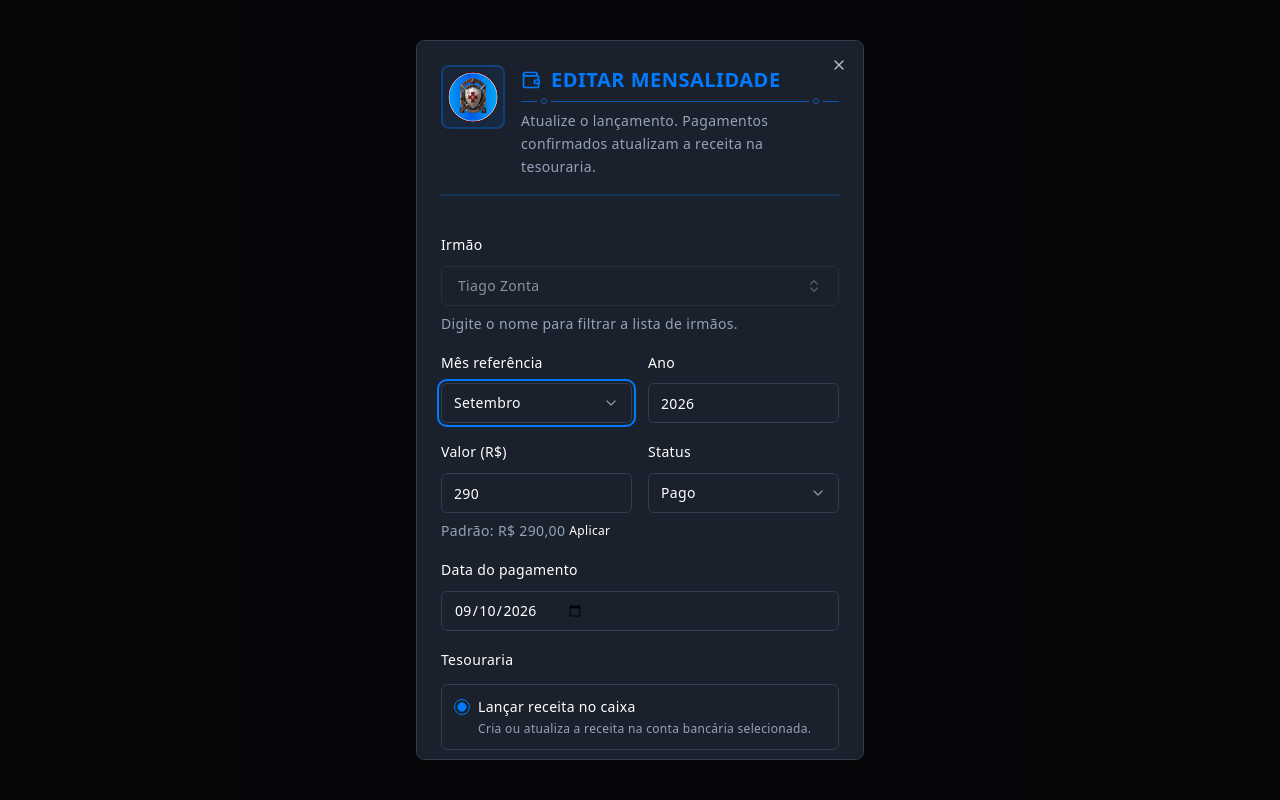
Test: ContributionDialog (edição) › não salva ao escolher voltar e corrigir
Replace the text in the number field labelled "Valor (R$)" with "21" at (536, 493), box x1=441 y1=473 x2=632 y2=513
(page scrolled)
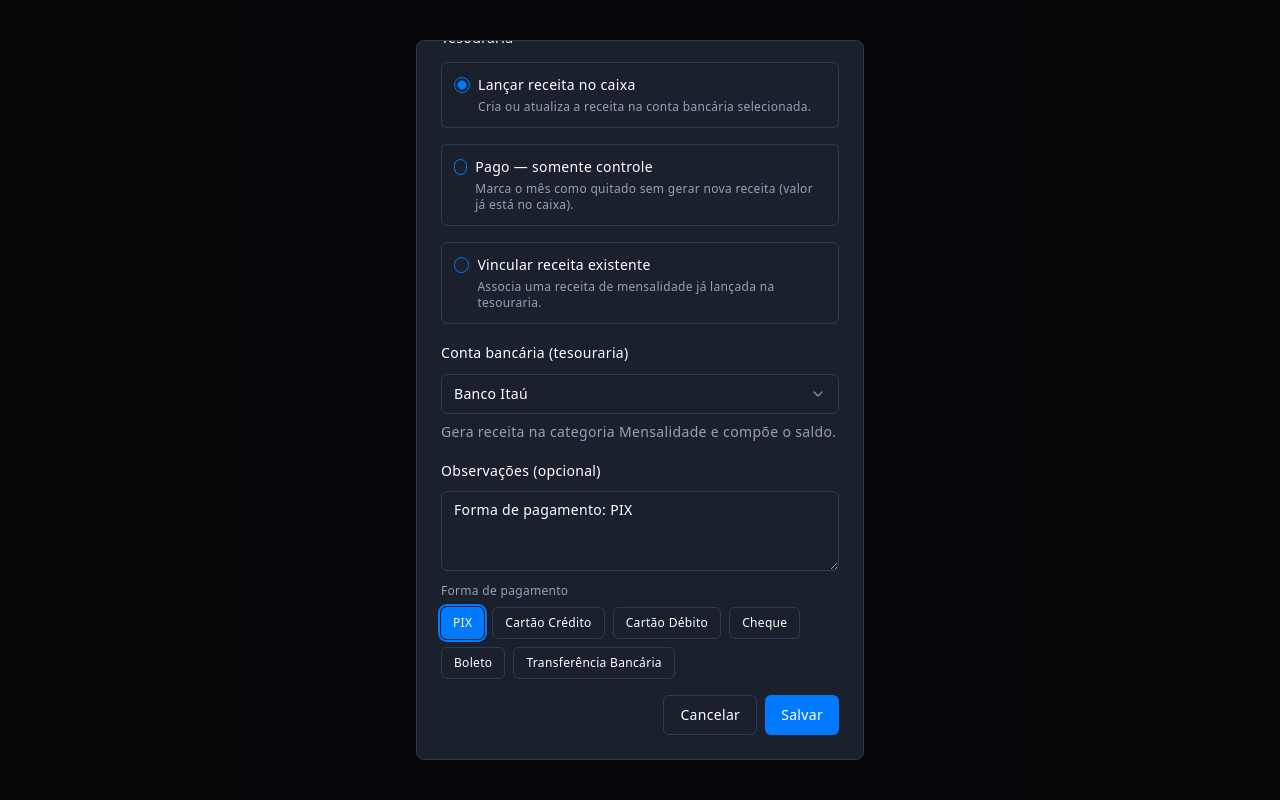
Click the button "Salvar" at (802, 715), box x1=765 y1=695 x2=839 y2=735
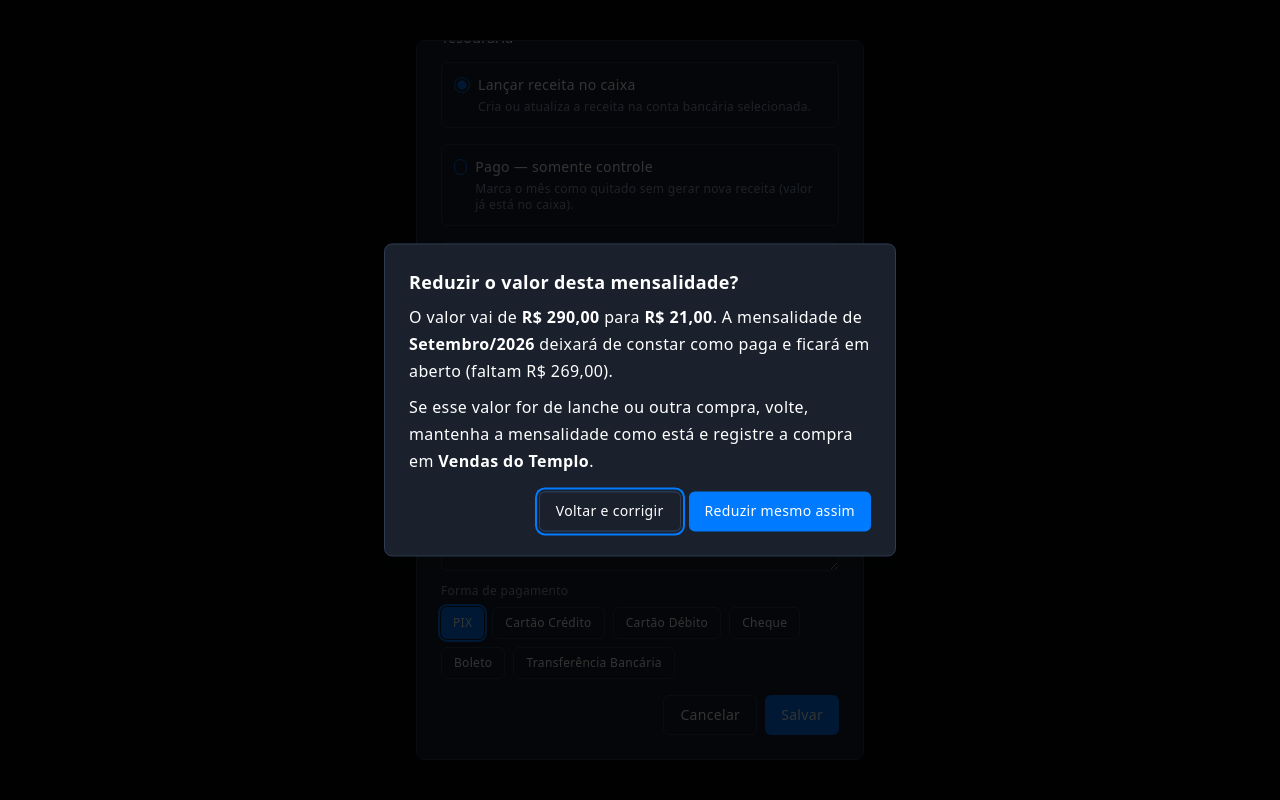
Click the button "Voltar e corrigir" at (610, 512), box x1=539 y1=492 x2=681 y2=532
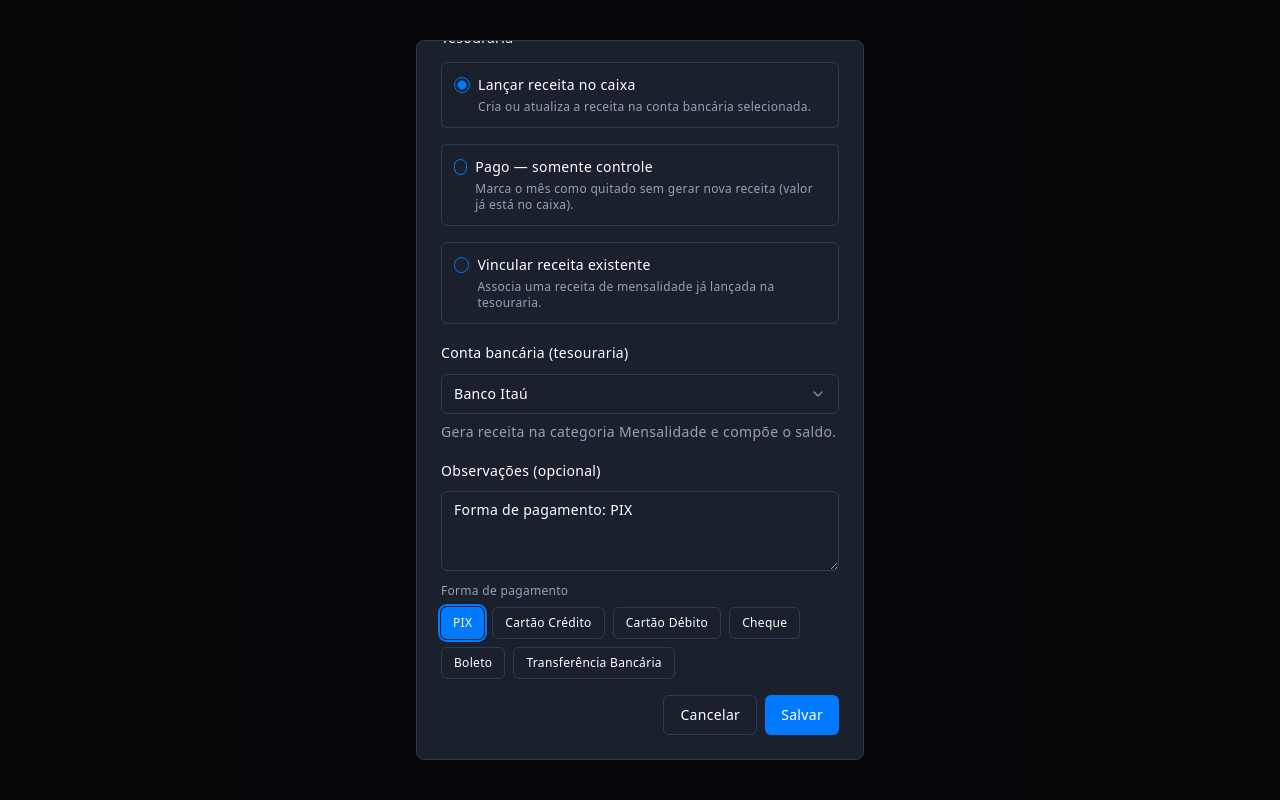
Result: the heading "Reduzir o valor desta mensalidade?" is gone
